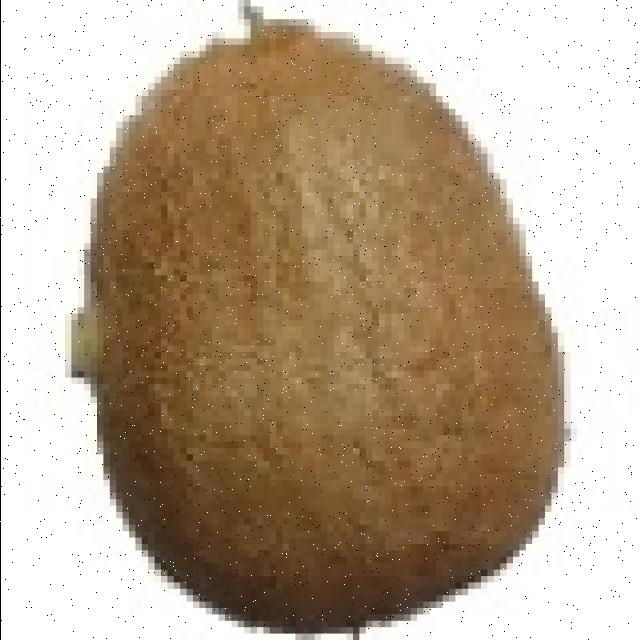kiwi: (90, 19, 570, 621)
